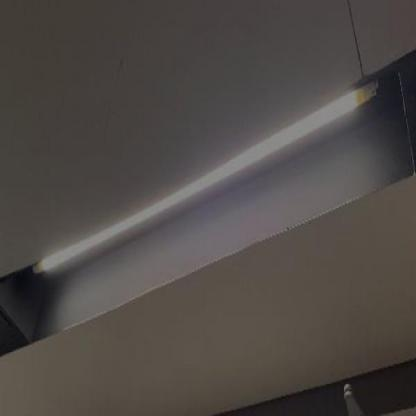light_on: (26, 75, 387, 287)
